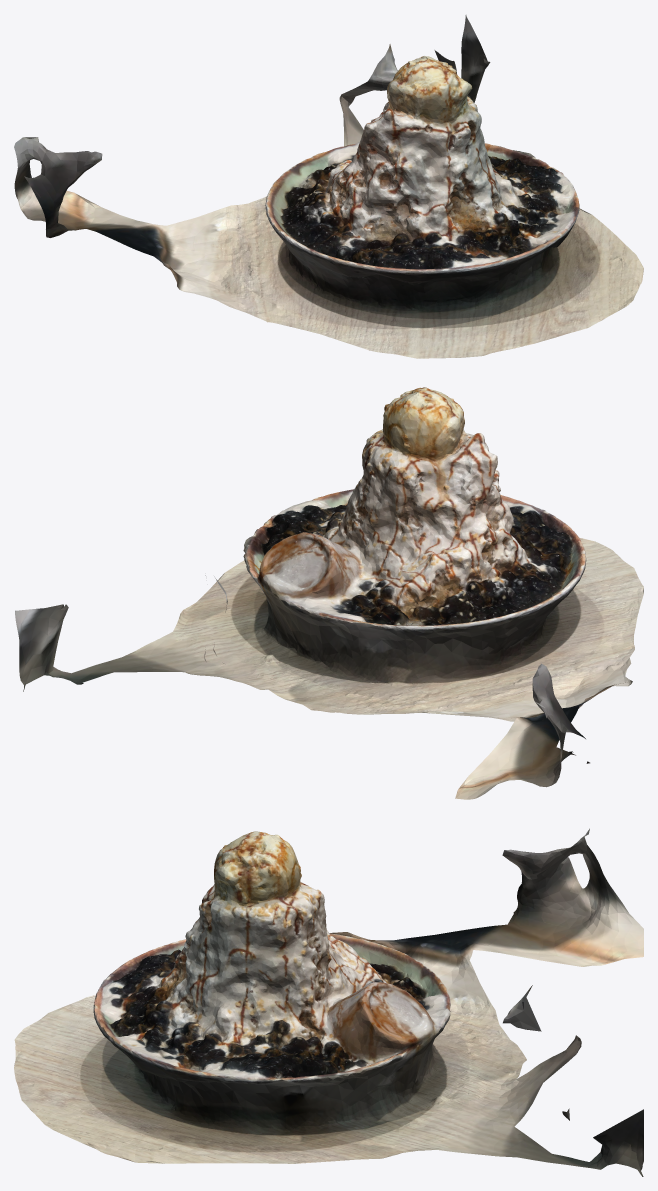
The picture shows the model from 3 angles, top to bottom: view 1: azimuth 30°, elevation 25°; view 2: azimuth 150°, elevation 25°; view 3: azimuth 270°, elevation 25°; orthographic projection. The views are drawn at different scales.
Size of the model in its own units: 1.97 by 0.8405 by 1.99.
Materials: 1 (1 with a texture image).
